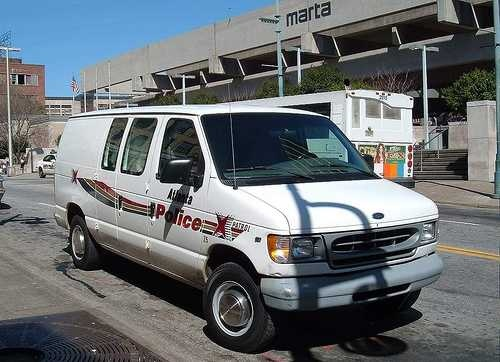Police Car: (50, 88, 443, 344)
